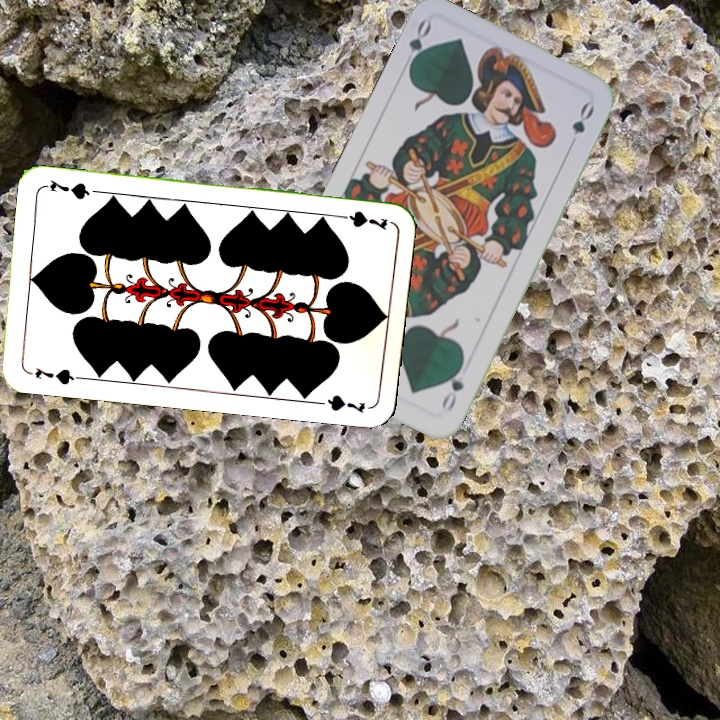G7: (331, 207, 390, 232), (31, 364, 83, 388)
GO: (398, 16, 434, 75), (437, 359, 467, 416)
